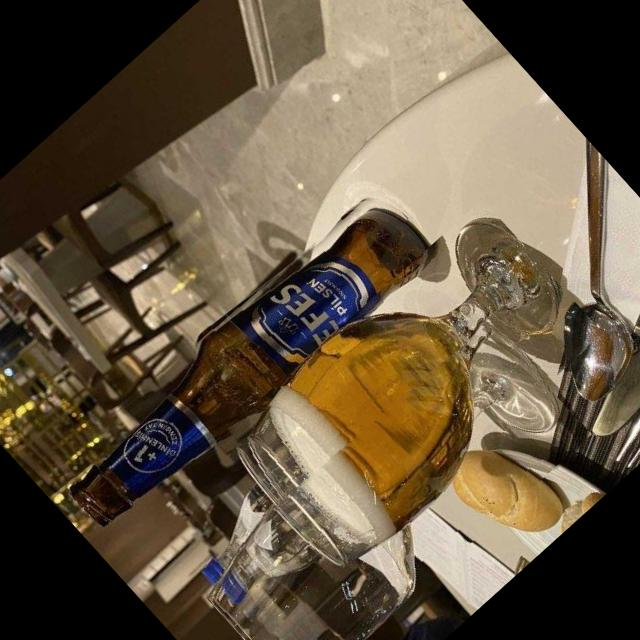Glass: (215, 197, 608, 578), (46, 176, 444, 551), (189, 313, 591, 640)
